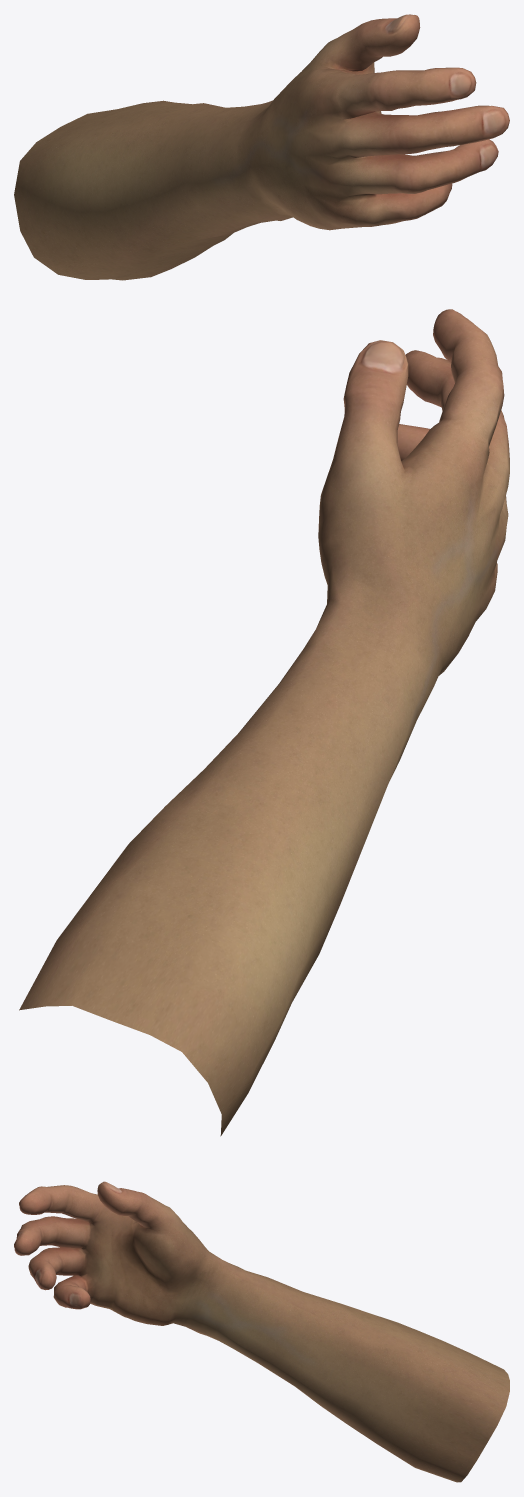
Rendered from forearm.glb.
The picture shows the model from 3 angles, top to bottom: view 1: azimuth 30°, elevation 25°; view 2: azimuth 150°, elevation 25°; view 3: azimuth 270°, elevation 25°; orthographic projection. The views are drawn at different scales.
Visible parts, largest first — view 1: arms; view 2: arms; view 3: arms.
Part boxes in pixels (x1,y1,x2,y2): arms: (14, 14, 509, 280); arms: (19, 309, 509, 1136); arms: (14, 1181, 509, 1482).
Size of the model in its own units: 40.14 by 89.51 by 129.
Materials: 1 (1 with a texture image).
